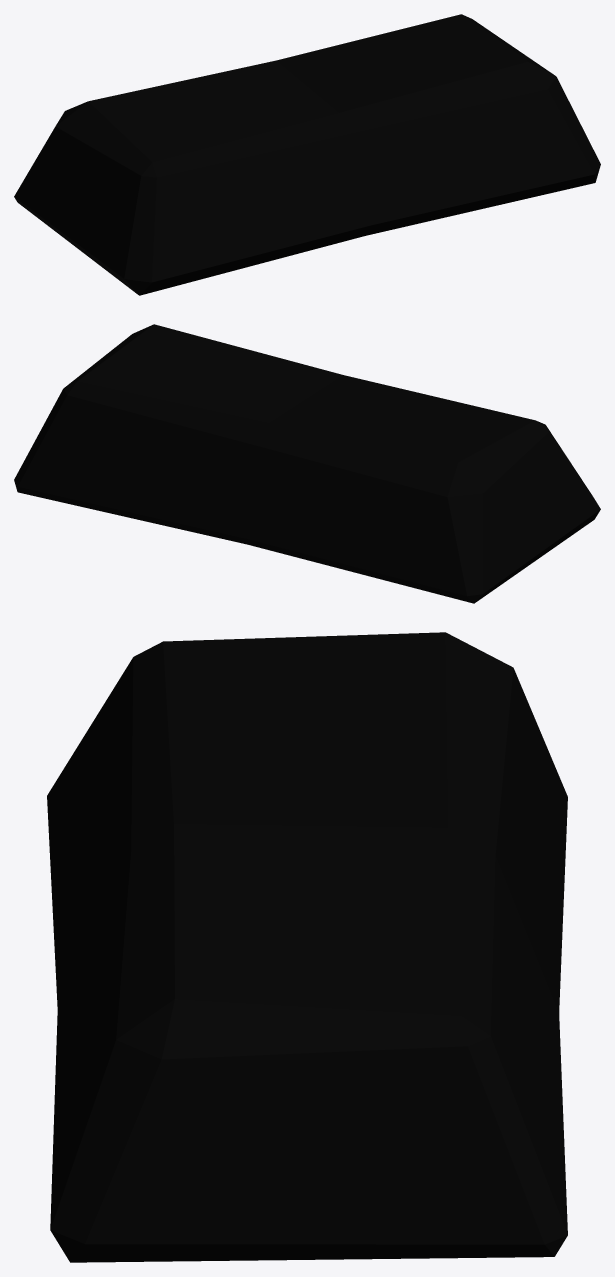
File: Bar Gold 02.fbx
The picture shows the model from 3 angles, top to bottom: view 1: azimuth 30°, elevation 25°; view 2: azimuth 150°, elevation 25°; view 3: azimuth 270°, elevation 25°; orthographic projection. The views are drawn at different scales.
Visible parts, largest first — view 1: Bar Gold 02; view 2: Bar Gold 02; view 3: Bar Gold 02.
Boxes of the visible parts, left/top/right/bottom form: Bar Gold 02: left=14, top=14, right=600, bottom=295; Bar Gold 02: left=14, top=324, right=600, bottom=603; Bar Gold 02: left=47, top=632, right=567, bottom=1262.
Size of the model in its own units: 51.03 by 11.82 by 24.22.
